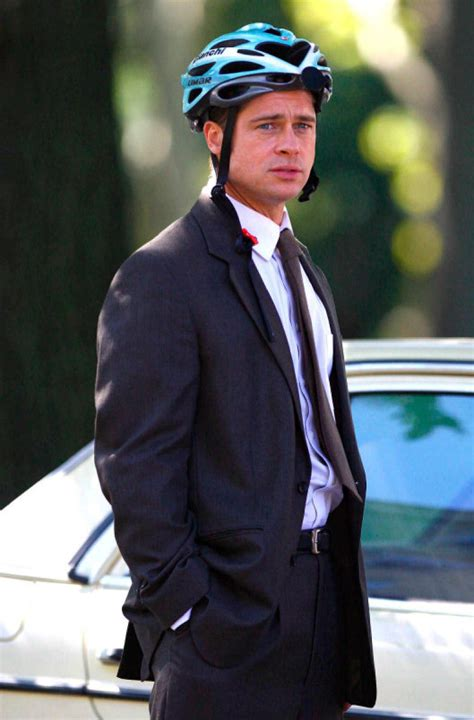com_capacete_bicicleta: (179, 20, 335, 201)
